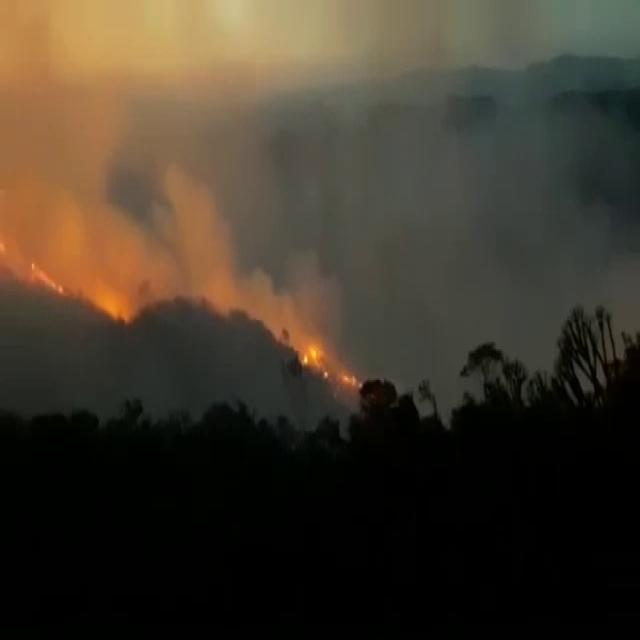Fire: (32, 260, 63, 296), (301, 345, 324, 373), (340, 366, 361, 390)
Smoke: (3, 9, 366, 414), (492, 2, 640, 392), (369, 9, 489, 426)
